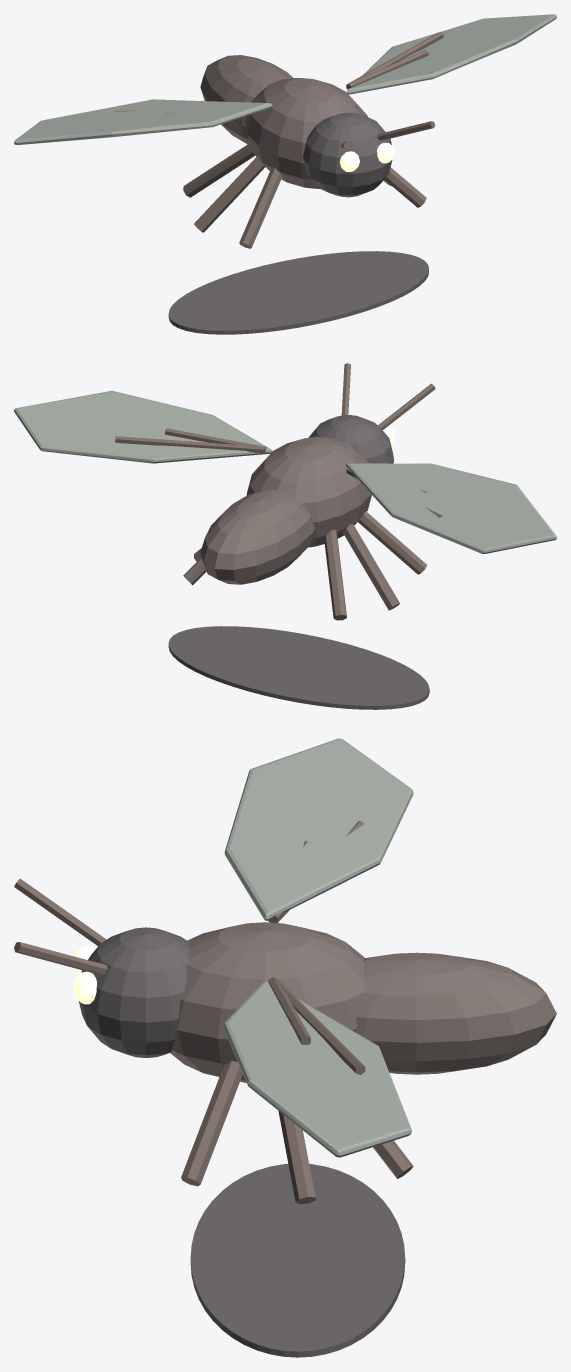
Rendered from barkwing-prototype.glb.
3 views of the same model, one above another, from view 1: azimuth 30°, elevation 25°; view 2: azimuth 150°, elevation 25°; view 3: azimuth 270°, elevation 25° (orthographic). The views are drawn at different scales.
Parts seen in each view (by area): view 1: Flight Shadow, Thorax, Left Leaf Wing, Right Leaf Wing, Head, Abdomen, Branch Leg 3, Branch Leg 1, Branch Leg 5, Branch Leg 2, Right Leaf Wing Vein 2, Right Leaf Wing Vein 1 (+1 smaller); view 2: Flight Shadow, Left Leaf Wing, Right Leaf Wing, Abdomen, Thorax, Head, Branch Leg 3, Branch Leg 5, Branch Leg 1, Right Leaf Wing Vein 2, Right Leaf Wing Vein 1, Left Antenna; view 3: Flight Shadow, Left Leaf Wing, Abdomen, Right Leaf Wing, Thorax, Head, Branch Leg 2, Branch Leg 4, Right Leaf Wing Vein 2, Left Antenna, Right Antenna, Right Leaf Wing Vein 1 (+1 smaller).
Part boxes in pixels (x1=…): Flight Shadow: x1=168, y1=251, x2=428, y2=334; Thorax: x1=245, y1=78, x2=367, y2=188; Left Leaf Wing: x1=14, y1=99, x2=272, y2=144; Right Leaf Wing: x1=346, y1=14, x2=556, y2=94; Head: x1=302, y1=112, x2=392, y2=197; Abdomen: x1=200, y1=55, x2=293, y2=144; Branch Leg 3: x1=194, y1=156, x2=265, y2=232; Branch Leg 1: x1=239, y1=167, x2=282, y2=248; Branch Leg 5: x1=183, y1=143, x2=254, y2=197; Branch Leg 2: x1=384, y1=167, x2=426, y2=207; Right Leaf Wing Vein 2: x1=346, y1=32, x2=443, y2=89; Right Leaf Wing Vein 1: x1=348, y1=50, x2=428, y2=88; Flight Shadow: x1=168, y1=626, x2=429, y2=709; Left Leaf Wing: x1=346, y1=463, x2=556, y2=553; Right Leaf Wing: x1=14, y1=390, x2=272, y2=463; Abdomen: x1=200, y1=489, x2=315, y2=584; Thorax: x1=246, y1=436, x2=371, y2=547; Head: x1=309, y1=415, x2=393, y2=463; Branch Leg 3: x1=343, y1=524, x2=399, y2=610; Branch Leg 5: x1=324, y1=529, x2=346, y2=620; Branch Leg 1: x1=358, y1=511, x2=426, y2=574; Right Leaf Wing Vein 2: x1=115, y1=436, x2=265, y2=453; Right Leaf Wing Vein 1: x1=165, y1=428, x2=266, y2=450; Left Antenna: x1=378, y1=383, x2=435, y2=430; Flight Shadow: x1=190, y1=1164, x2=405, y2=1357; Left Leaf Wing: x1=224, y1=738, x2=413, y2=920; Abdomen: x1=355, y1=952, x2=556, y2=1074; Right Leaf Wing: x1=223, y1=980, x2=411, y2=1157; Thorax: x1=170, y1=922, x2=365, y2=1082; Head: x1=79, y1=927, x2=188, y2=1057; Branch Leg 2: x1=181, y1=1061, x2=242, y2=1186; Branch Leg 4: x1=278, y1=1111, x2=315, y2=1204; Right Leaf Wing Vein 2: x1=273, y1=977, x2=365, y2=1074; Left Antenna: x1=14, y1=878, x2=106, y2=946; Right Antenna: x1=14, y1=942, x2=107, y2=974; Right Leaf Wing Vein 1: x1=268, y1=977, x2=310, y2=1045.
Size of what is drawn, in the model's own units: 5.84 by 2.36 by 3.29.
